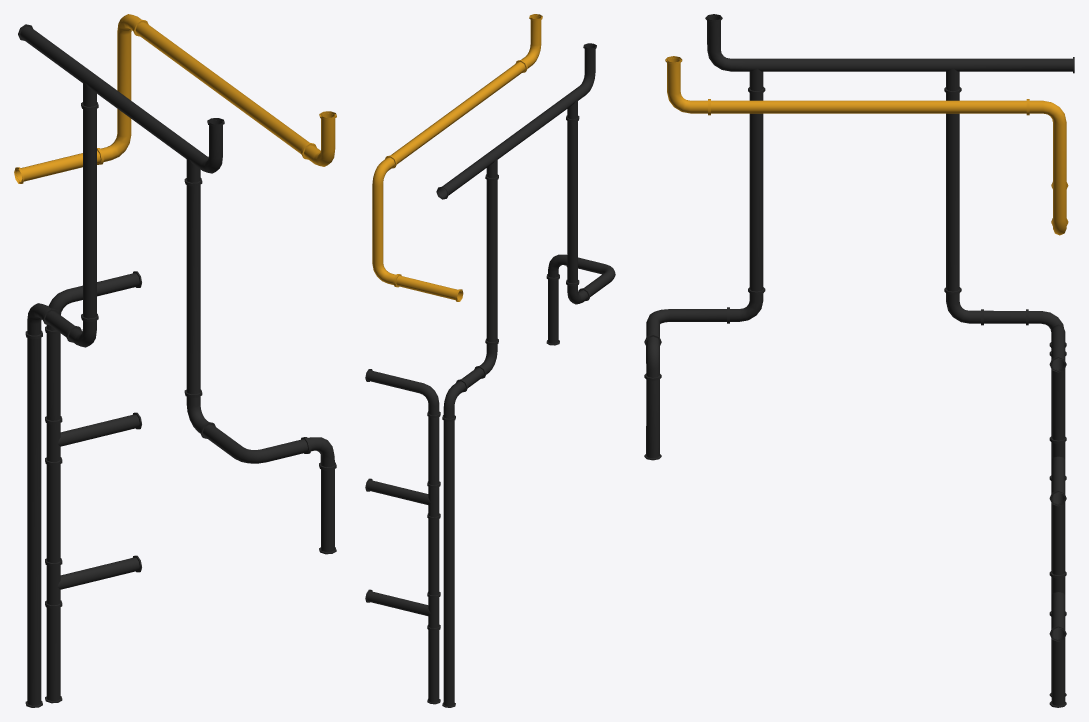
File: SM_H_Building_Tide_DeepJail_03g_ATLAS.fbx
3 views of the same model, side by side, from view 1: azimuth 30°, elevation 25°; view 2: azimuth 150°, elevation 25°; view 3: azimuth 270°, elevation 25° (orthographic). The views are drawn at different scales.
Parts seen in each view (by area): view 1: SM_H_Building_Tide_DeepJail_03g_ATLAS; view 2: SM_H_Building_Tide_DeepJail_03g_ATLAS; view 3: SM_H_Building_Tide_DeepJail_03g_ATLAS.
Part boxes in pixels (x1,y1,x2,y2): SM_H_Building_Tide_DeepJail_03g_ATLAS: (14, 14, 336, 707); SM_H_Building_Tide_DeepJail_03g_ATLAS: (365, 14, 615, 707); SM_H_Building_Tide_DeepJail_03g_ATLAS: (644, 14, 1074, 707).
Size of the model in its own units: 552 by 1837 by 3194.
